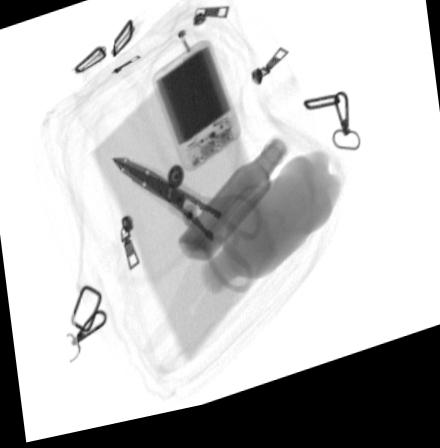Powerbank: (151, 49, 240, 182)
Scissors: (108, 162, 258, 303)
